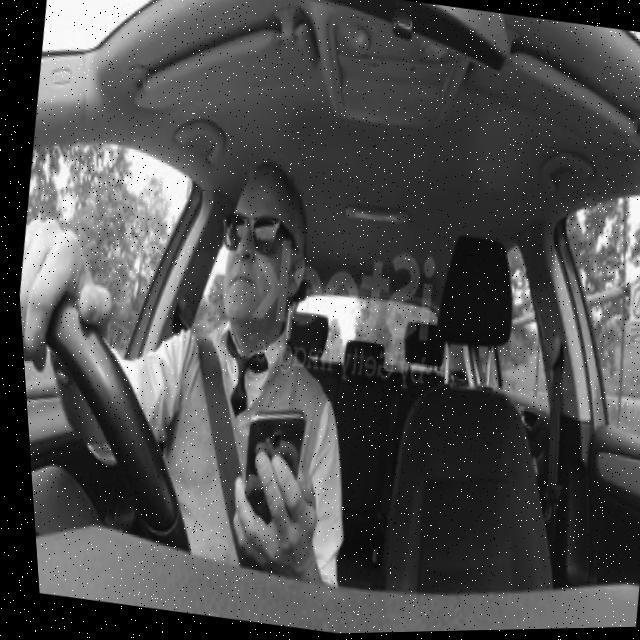PhoneCall: (220, 404, 310, 566)
